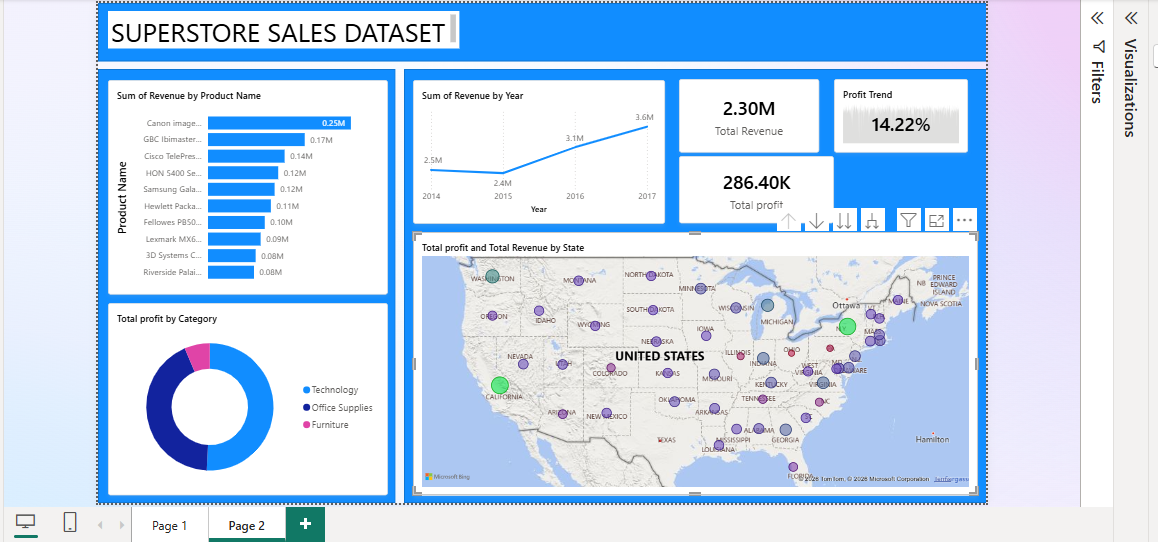

The page's visual inventory and layout, read from the dashboard file:
{"tool":"powerbi","page":{"name":"Page 2","canvas":[1280,720],"ordinal":1},"visuals":[{"type":"shape","box":[0,0,1280,84],"z":0},{"type":"shape","box":[0,95.7,428.3,624.9],"z":1000},{"type":"clusteredBarChart","fields":{"Category":["Sample - Superstore.Product Name"],"Y":["Sum(Sample - Superstore.Revenue)"]},"box":[15.1,110.9,403.1,309.1],"z":2000},{"type":"donutChart","fields":{"Category":["Sample - Superstore.Category"],"Y":["Sample - Superstore.Total profit"]},"box":[15.1,431.7,403.1,277.2],"z":3000},{"type":"shape","box":[440.1,95.7,839.9,624.9],"z":4000},{"type":"map","fields":{"Category":["Sample - Superstore.State","Sample - Superstore.City","Sample - Superstore.Country"],"Size":["Sample - Superstore.Total profit"]},"box":[453.5,329.2,813,379.6],"z":5000},{"type":"lineChart","fields":{"Category":["Sample - Superstore.Order Date.Variation.Date Hierarchy.Year","Sample - Superstore.Order Date.Variation.Date Hierarchy.Quarter","Sample - Superstore.Order Date.Variation.Date Hierarchy.Month","Sample - Superstore.Order Date.Variation.Date Hierarchy.Day"],"Y":["Sum(Sample - Superstore.Revenue)"]},"box":[453.5,110.9,362.8,206.6],"z":6000},{"type":"textbox","box":[15.1,11.8,505.6,53.8],"z":7000},{"type":"card","fields":{"Values":["Sample - Superstore.Total Revenue"]},"box":[836.5,109.2,201.6,105.8],"z":8000},{"type":"kpi","title":"Profit Trend","fields":{"Indicator":["Sample - Superstore.Profit Margin"],"TrendLine":["Sample - Superstore.Order Date"]},"box":[1059.9,109.2,193.2,105.8],"z":9000},{"type":"card","fields":{"Values":["Sample - Superstore.Total profit"]},"box":[836.5,220.1,223.4,97.4],"z":10000}]}

Visuals, with their boxes on the page's 1280x720 design canvas (x1, y1, x2, y2). These are canvas units, not pixel positions in the 1158x542 screenshot, which may show the page scaled, cropped or inside an application window:
shape: crop(0, 0, 1280, 84)
shape: crop(0, 96, 428, 721)
clusteredBarChart - Sample - Superstore.Product Name x Sum(Sample - Superstore.Revenue): crop(15, 111, 418, 420)
donutChart - Sample - Superstore.Category x Sample - Superstore.Total profit: crop(15, 432, 418, 709)
shape: crop(440, 96, 1280, 721)
map - Sample - Superstore.State x Sample - Superstore.City: crop(454, 329, 1266, 709)
lineChart - Sample - Superstore.Order Date.Variation.Date Hierarchy.Year x Sample - Superstore.Order Date.Variation.Date Hierarchy.Quarter: crop(454, 111, 816, 318)
textbox: crop(15, 12, 521, 66)
card - Sample - Superstore.Total Revenue: crop(836, 109, 1038, 215)
"Profit Trend" kpi: crop(1060, 109, 1253, 215)
card - Sample - Superstore.Total profit: crop(836, 220, 1060, 318)
